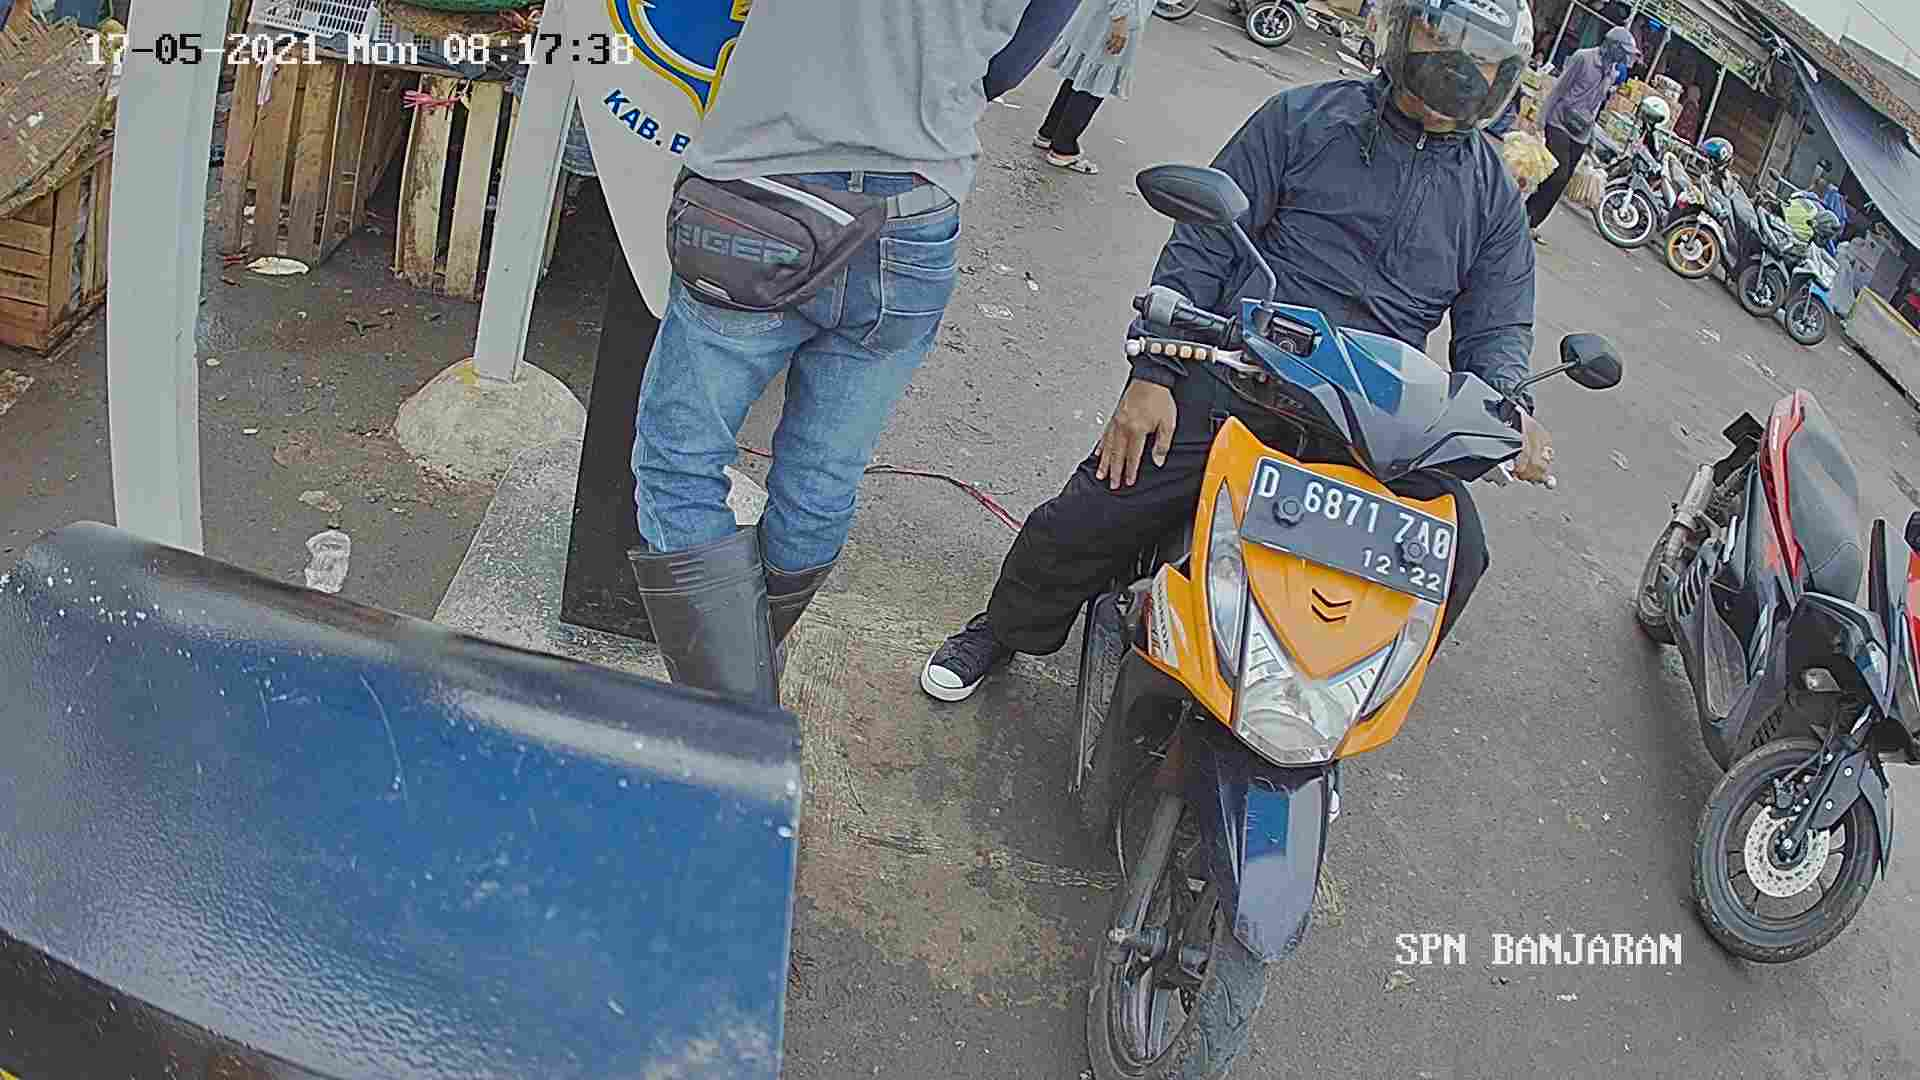motor: (1000, 266, 1563, 1080), (1629, 369, 1920, 975)
